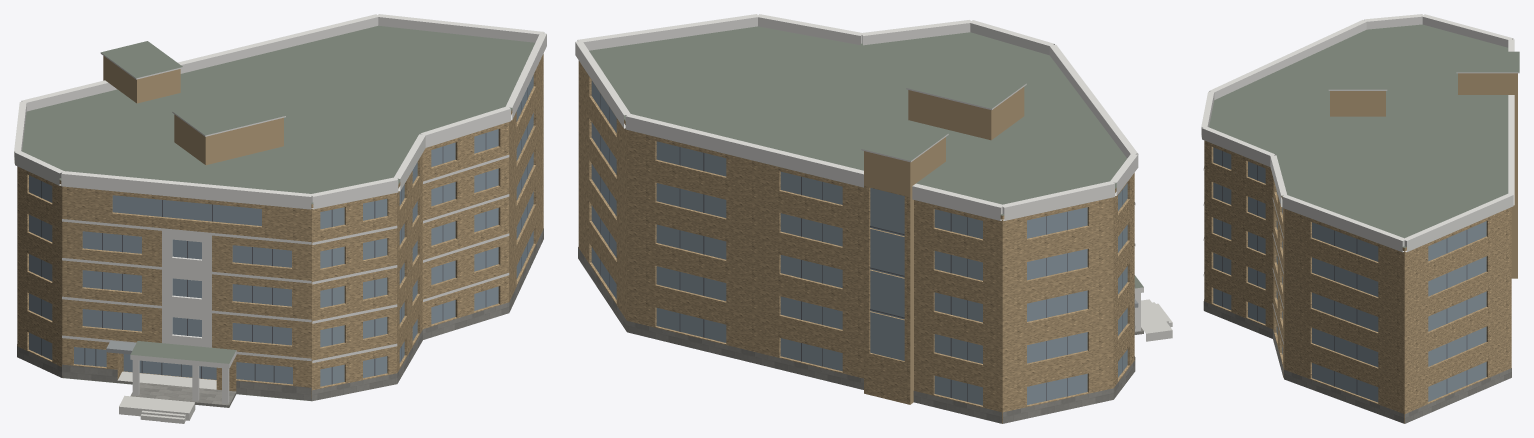
The picture shows the model from 3 angles, left to right: view 1: azimuth 30°, elevation 25°; view 2: azimuth 150°, elevation 25°; view 3: azimuth 270°, elevation 25°; orthographic projection. The views are drawn at different scales.
Visible parts, largest first — view 1: b28__wall, b28__roof, b28__glass, b28__trim, b28__base, b28__wall2, b28__entranceStair, b28__frame, b28__column; view 2: b28__wall, b28__roof, b28__glass, b28__trim, b28__wall2, b28__base, b28__frame, b28__entranceStair; view 3: b28__roof, b28__wall, b28__glass, b28__trim, b28__wall2, b28__base, b28__frame.
Part boxes in pixels (x1=…): b28__wall: x1=17, y1=54, x2=543, y2=398; b28__roof: x1=22, y1=25, x2=535, y2=401; b28__glass: x1=29, y1=75, x2=533, y2=386; b28__trim: x1=14, y1=14, x2=546, y2=368; b28__base: x1=17, y1=228, x2=543, y2=407; b28__wall2: x1=103, y1=56, x2=283, y2=165; b28__entranceStair: x1=117, y1=371, x2=216, y2=423; b28__frame: x1=41, y1=88, x2=527, y2=384; b28__column: x1=132, y1=360, x2=229, y2=404; b28__wall: x1=578, y1=60, x2=1134, y2=423; b28__roof: x1=589, y1=26, x2=1143, y2=423; b28__glass: x1=591, y1=80, x2=1127, y2=405; b28__trim: x1=575, y1=14, x2=1143, y2=328; b28__wall2: x1=864, y1=87, x2=1024, y2=404; b28__base: x1=578, y1=247, x2=1143, y2=423; b28__frame: x1=600, y1=94, x2=1122, y2=401; b28__entranceStair: x1=1141, y1=299, x2=1172, y2=341; b28__roof: x1=1209, y1=24, x2=1519, y2=423; b28__wall: x1=1204, y1=140, x2=1511, y2=423; b28__glass: x1=1213, y1=147, x2=1486, y2=402; b28__trim: x1=1201, y1=14, x2=1519, y2=344; b28__wall2: x1=1330, y1=73, x2=1517, y2=278; b28__base: x1=1203, y1=299, x2=1511, y2=423; b28__frame: x1=1222, y1=151, x2=1467, y2=394.
Size of the model in its own units: 49.89 by 21.69 by 29.57.
11 materials, 2 textured.
